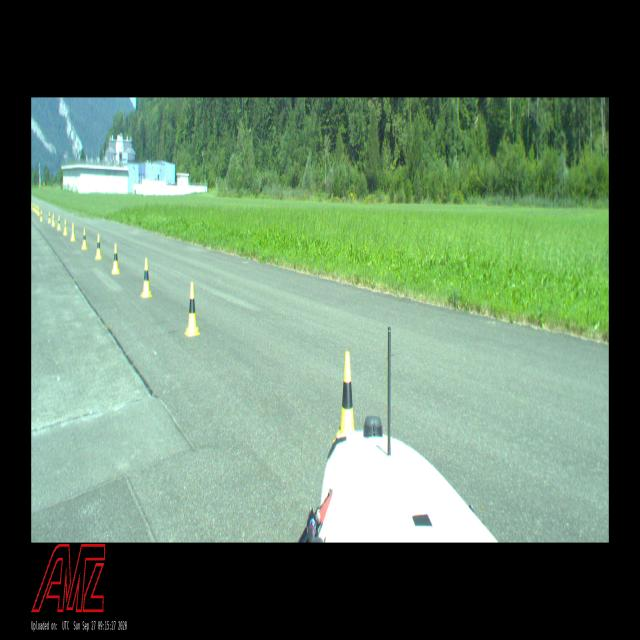yellow_cone: (340, 350, 354, 432), (184, 281, 200, 337), (140, 258, 152, 298), (111, 243, 120, 275), (95, 234, 102, 260), (81, 227, 88, 250), (70, 222, 76, 242), (63, 218, 68, 236), (57, 216, 61, 230), (48, 211, 51, 224), (52, 214, 55, 226), (40, 210, 42, 222)
